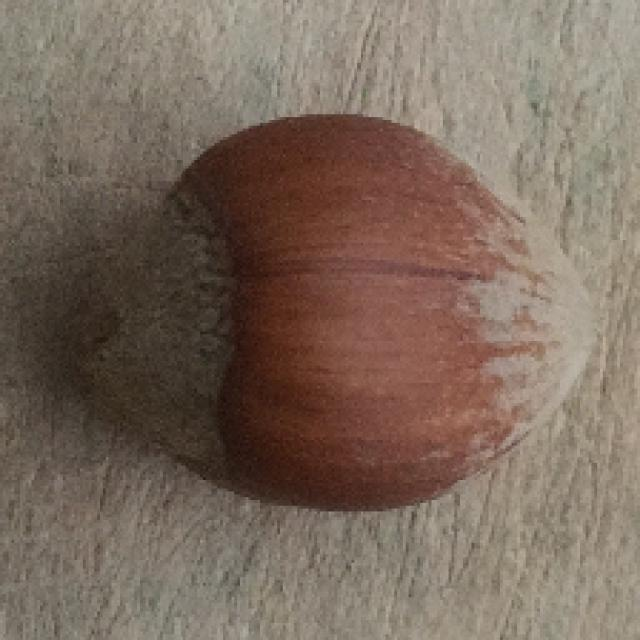QualityHazelnut: (63, 107, 604, 516)
